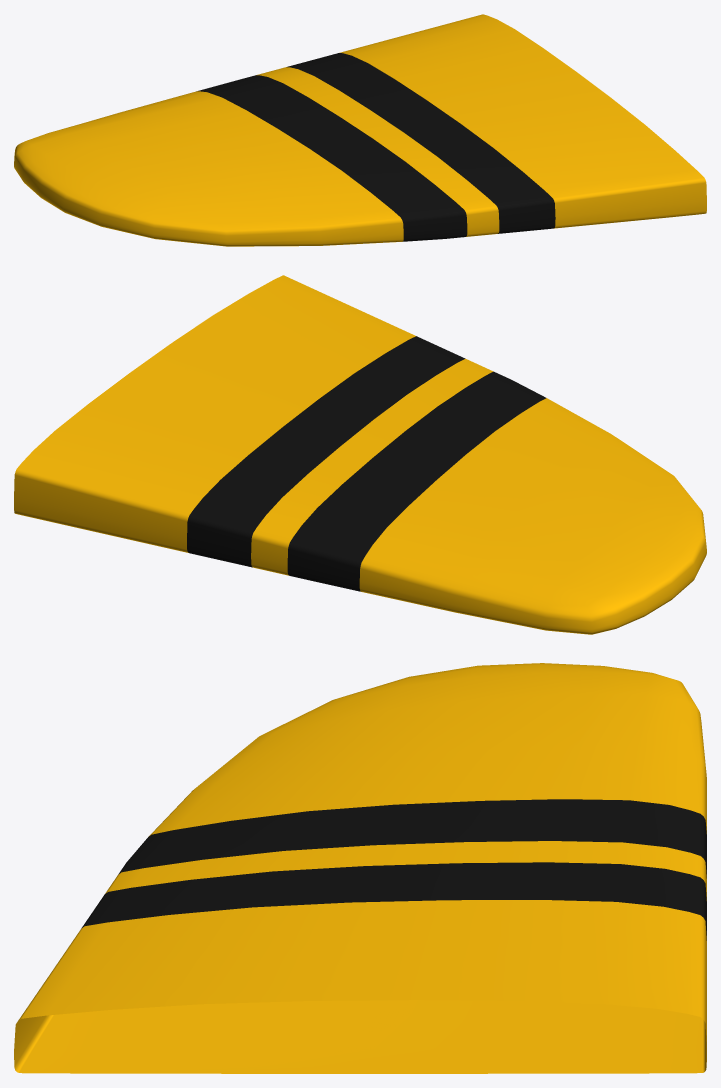
The model's file is wing_R.fbx.
3 renders of one model, top to bottom at view 1: azimuth 30°, elevation 25°; view 2: azimuth 150°, elevation 25°; view 3: azimuth 270°, elevation 25°, orthographic. The views are drawn at different scales.
Visible parts, largest first — view 1: wing_R; view 2: wing_R; view 3: wing_R.
Boxes of the visible parts, <box> form: wing_R: <box>14,14,706,246</box>; wing_R: <box>14,275,706,634</box>; wing_R: <box>14,663,706,1073</box>.
Size of the model in its own units: 130 by 12.16 by 103.
1 material, 1 textured.
